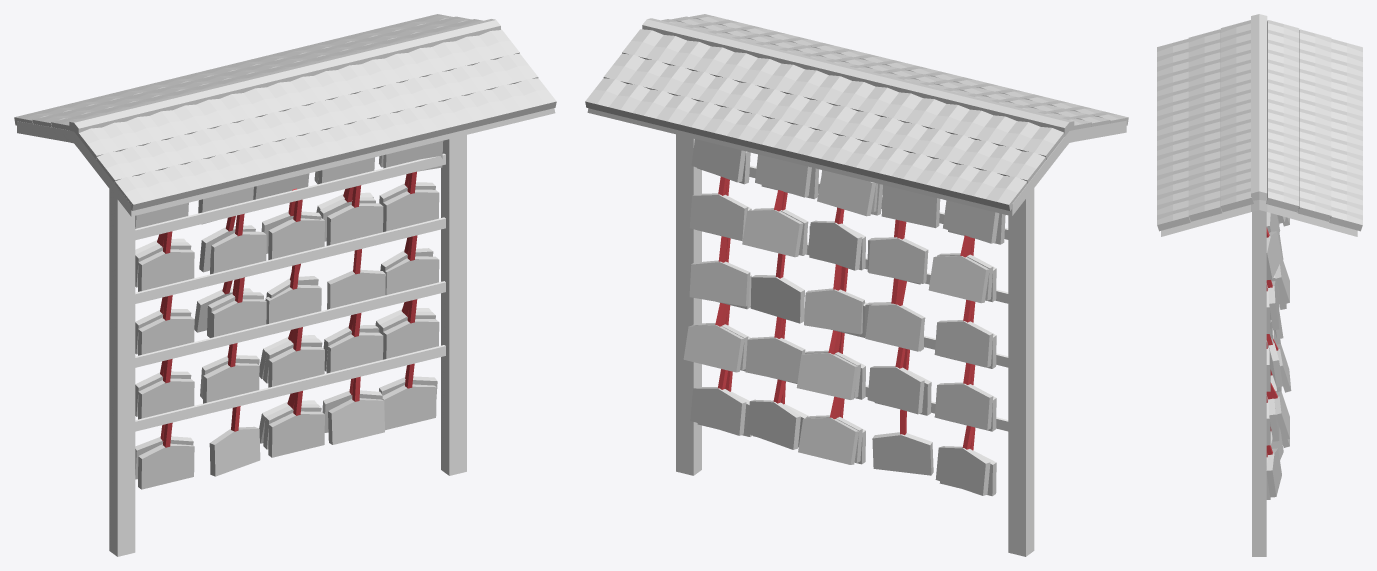
The model's file is wishplaque.fbx.
3 renders of one model, left to right at view 1: azimuth 30°, elevation 25°; view 2: azimuth 150°, elevation 25°; view 3: azimuth 270°, elevation 25°, orthographic. The views are drawn at different scales.
Visible parts, largest first — view 1: Cube.046; view 2: Cube.046; view 3: Cube.046.
Boxes of the visible parts, <box> form: Cube.046: <box>14,14,556,556</box>; Cube.046: <box>585,14,1128,556</box>; Cube.046: <box>1157,14,1362,556</box>.
Size of the model in its own units: 167 by 165 by 81.25.
